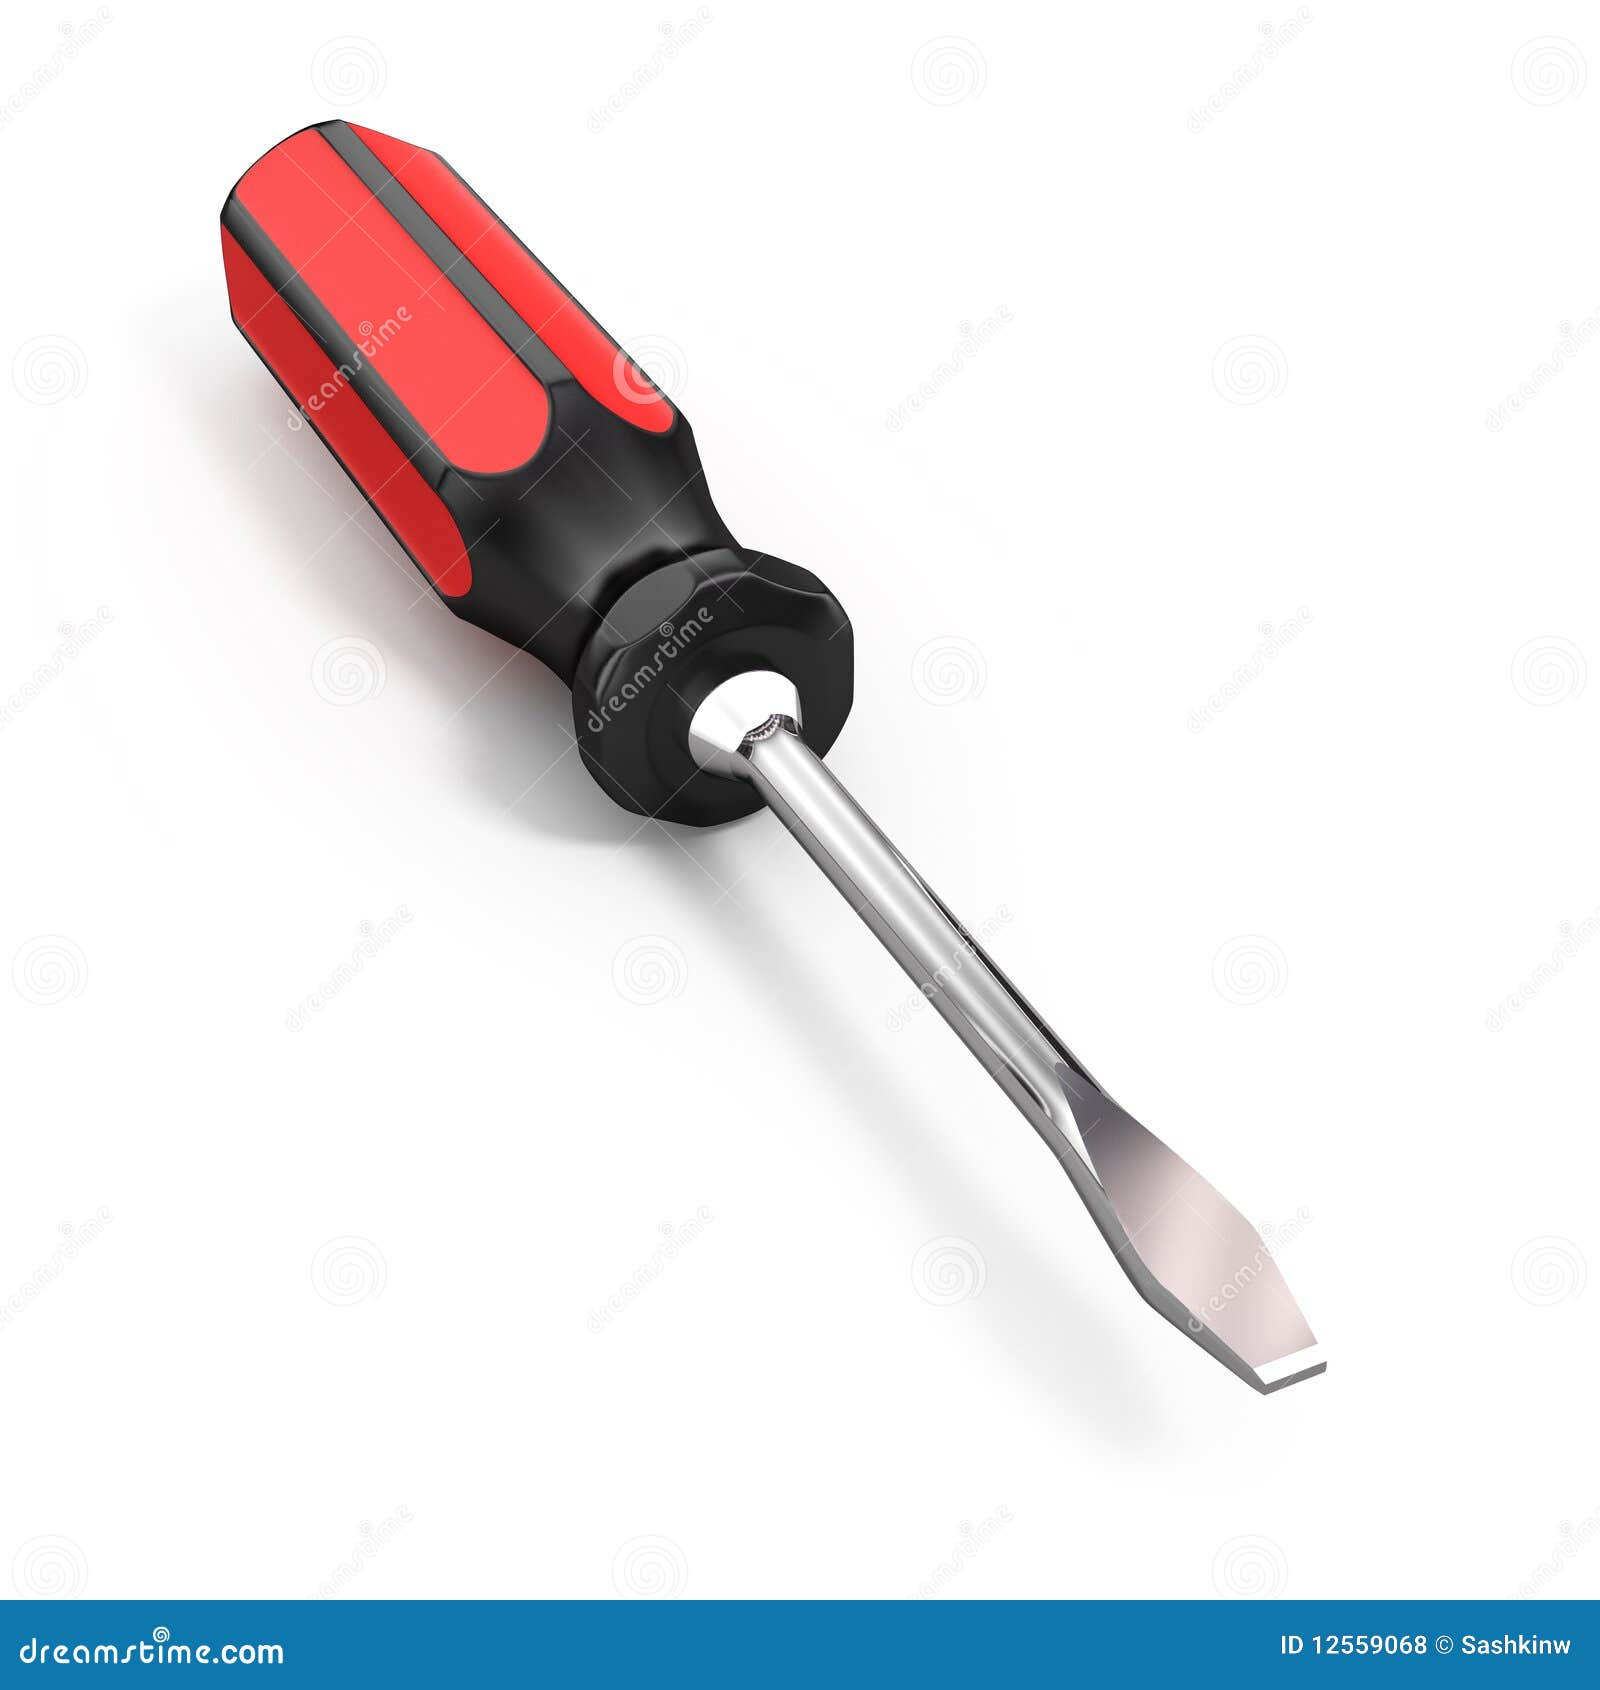screwdriver: (220, 120, 1335, 1395)
